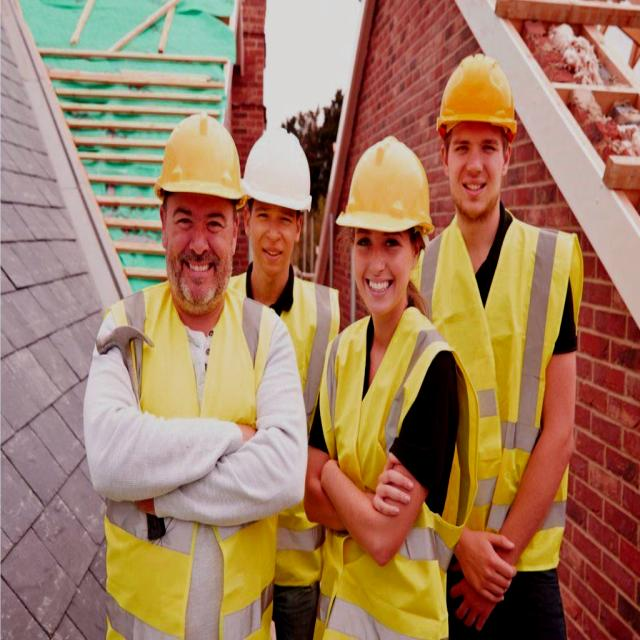face_nomask: (160, 206, 236, 314), (350, 231, 409, 320), (444, 138, 505, 222), (250, 210, 300, 278)
hand_noglove: (458, 531, 521, 602), (451, 557, 504, 631), (364, 449, 414, 524)
head_helmet: (334, 134, 436, 234), (153, 113, 245, 199), (437, 54, 518, 138), (242, 126, 312, 209)
person: (86, 114, 255, 640), (435, 53, 581, 637), (315, 137, 439, 637), (234, 130, 335, 368)
vest: (103, 274, 271, 640), (420, 218, 588, 574), (316, 304, 471, 640), (274, 275, 340, 585)
